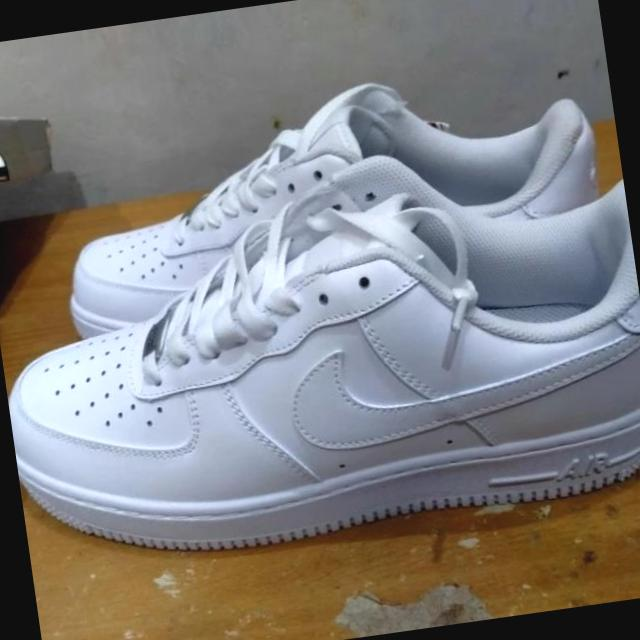nike_original_airforce: (0, 121, 640, 580), (43, 52, 618, 352)
